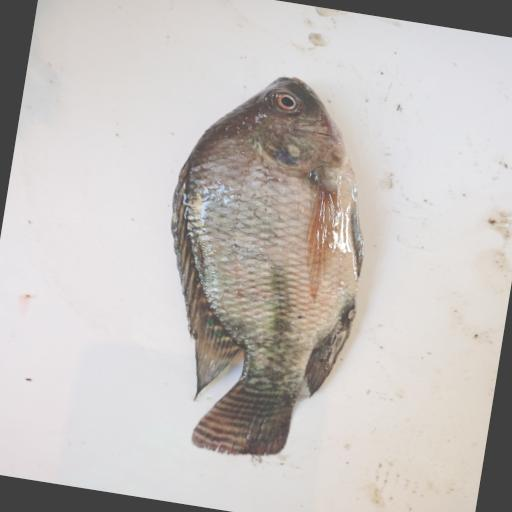Tilapia: (134, 61, 391, 473)
